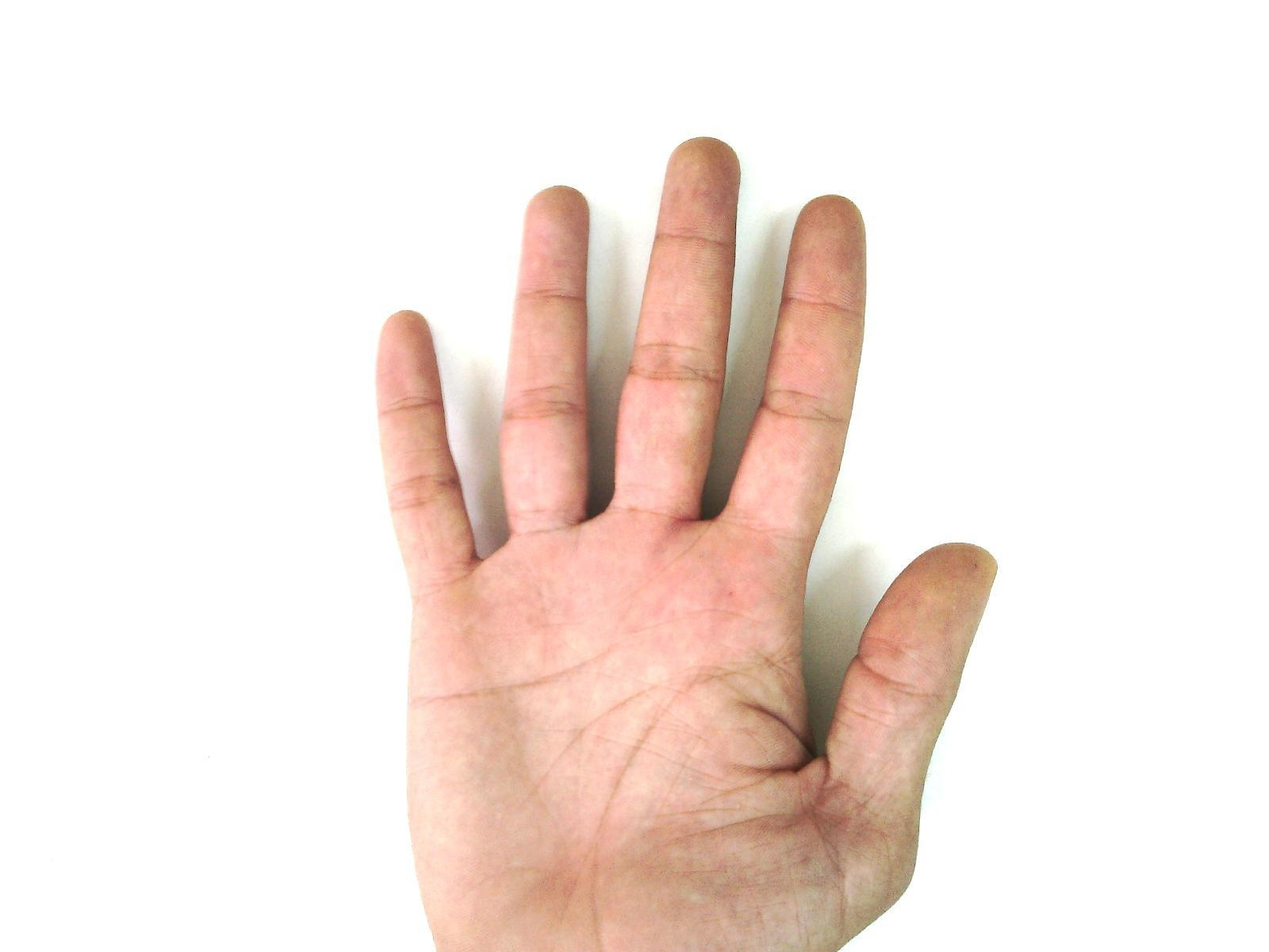open_palm: (371, 136, 1000, 952)
